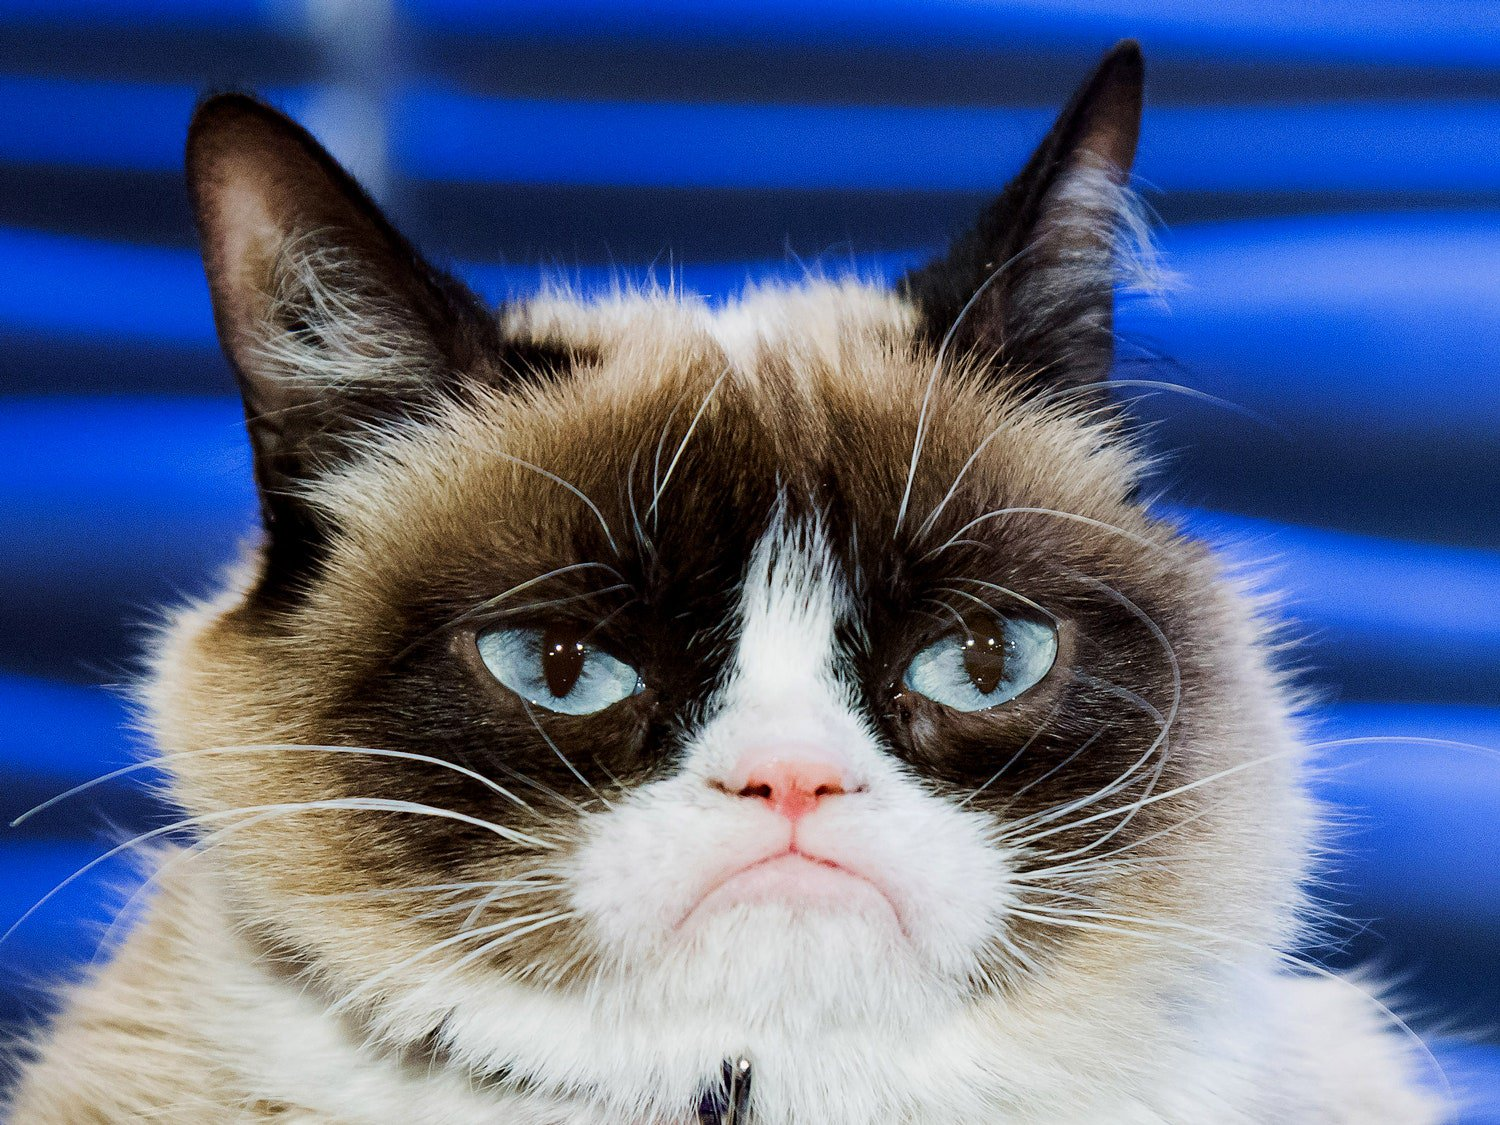cat: (129, 26, 1407, 1116)
